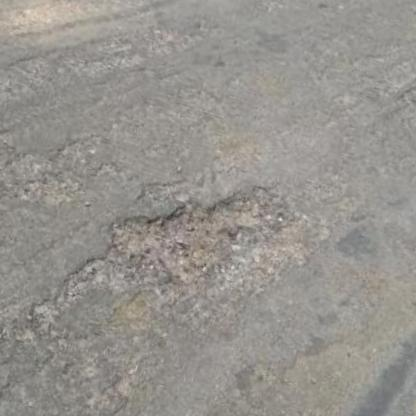pothole: (94, 157, 274, 306)
